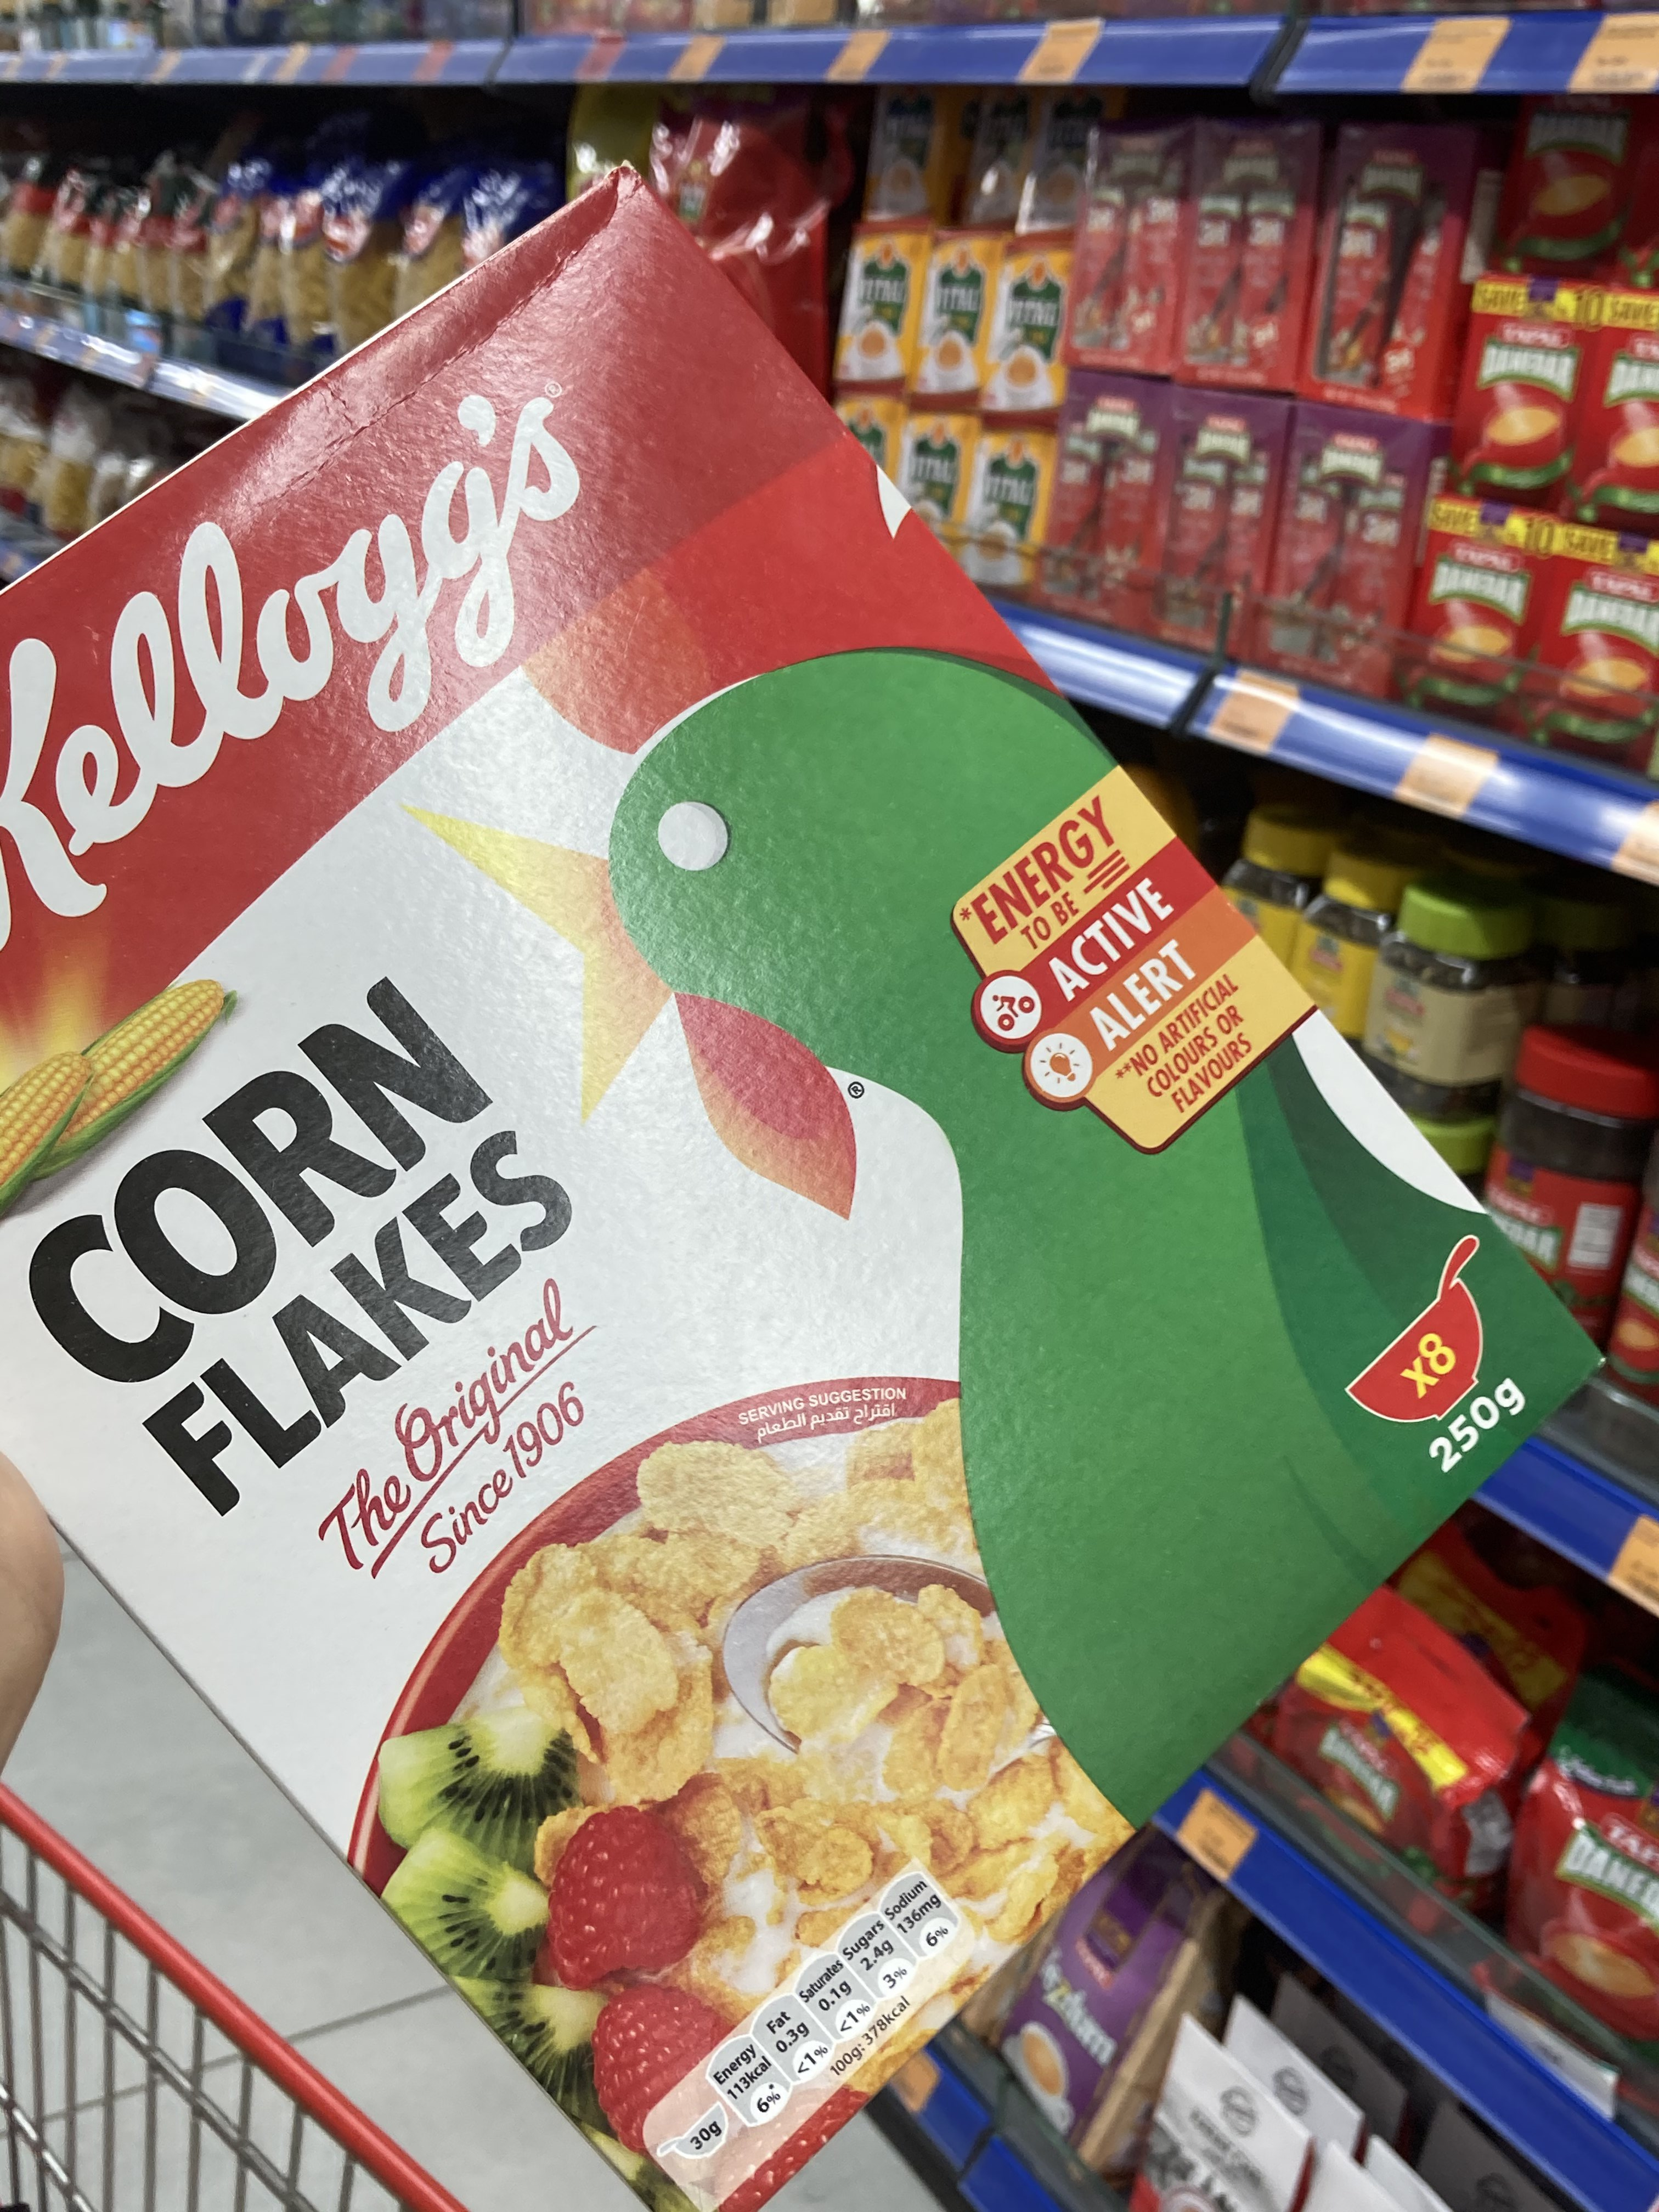Kellogg's Corn Flakes: (2, 160, 1610, 2212)
